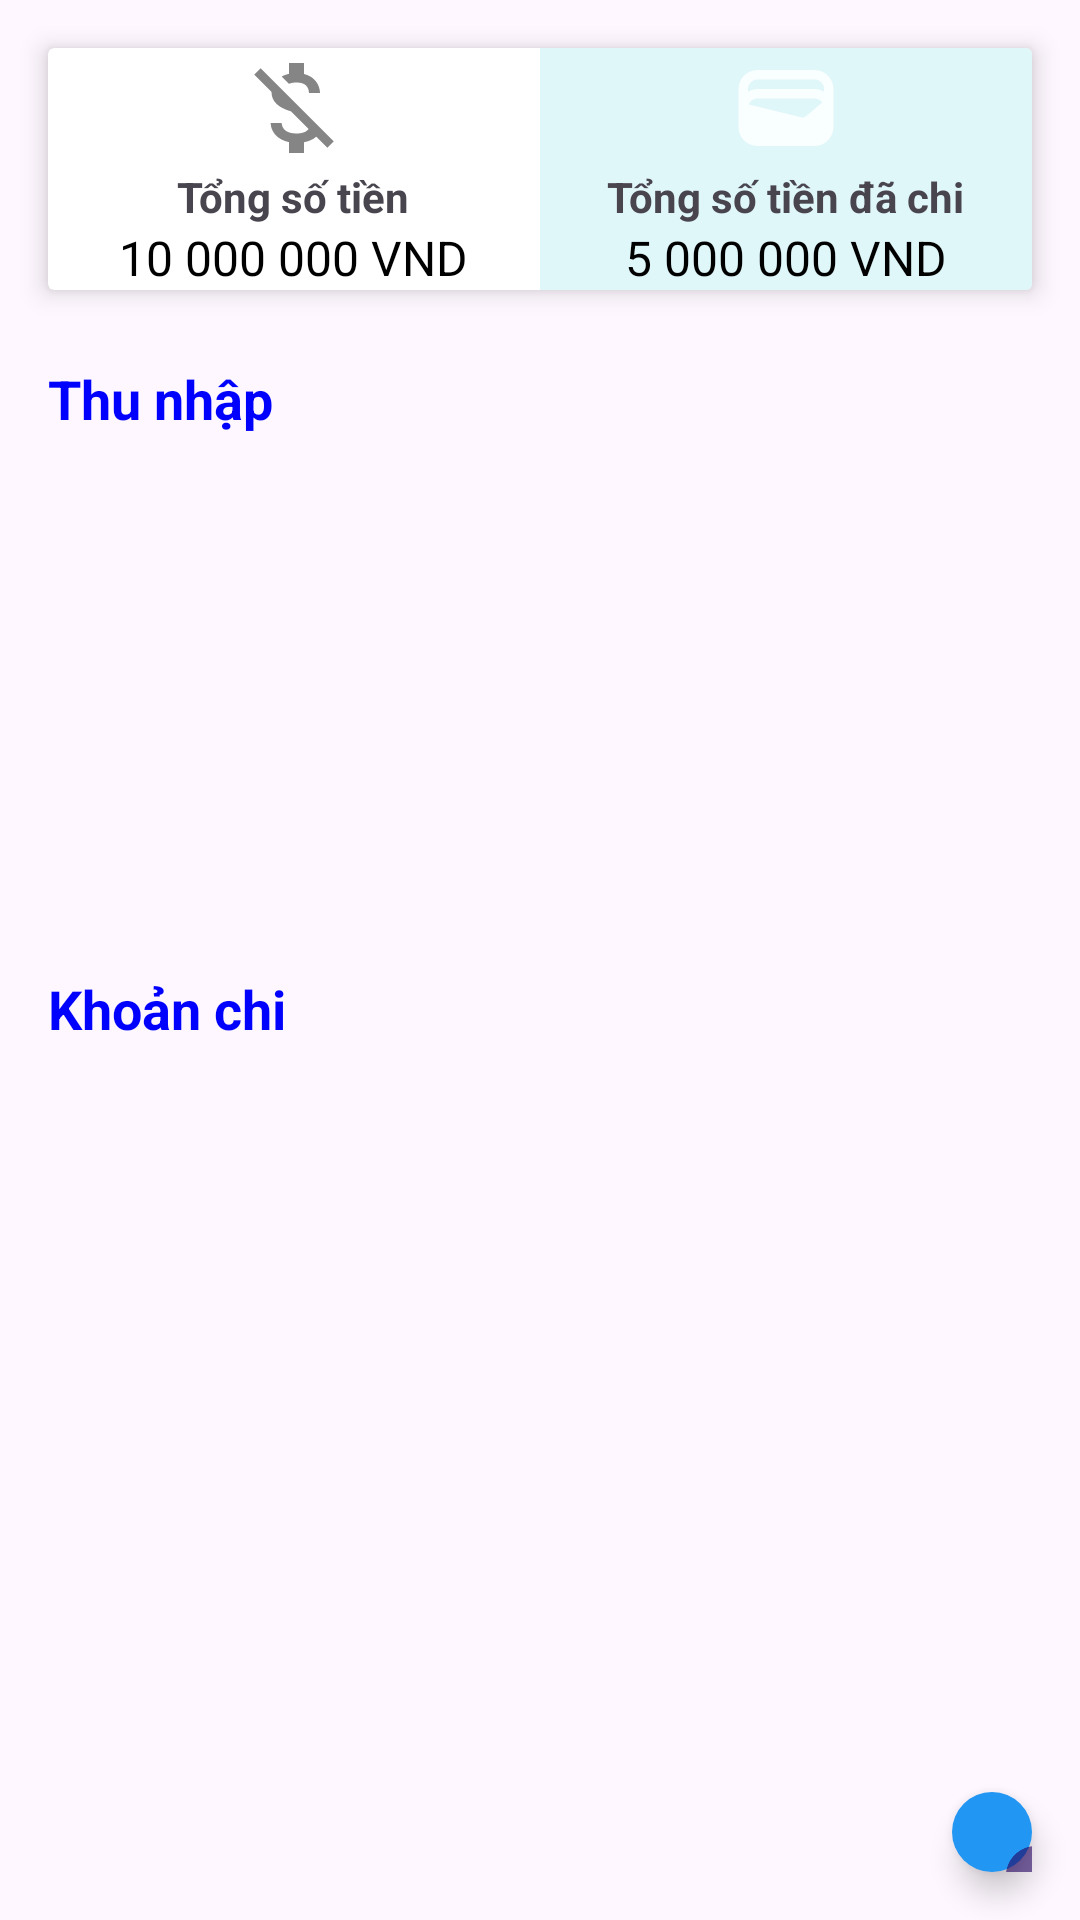

Where icons sit on this 1080px x 1920px app screen, as (x1, y1, x2, y2):
wallet: (739, 70, 833, 146)
